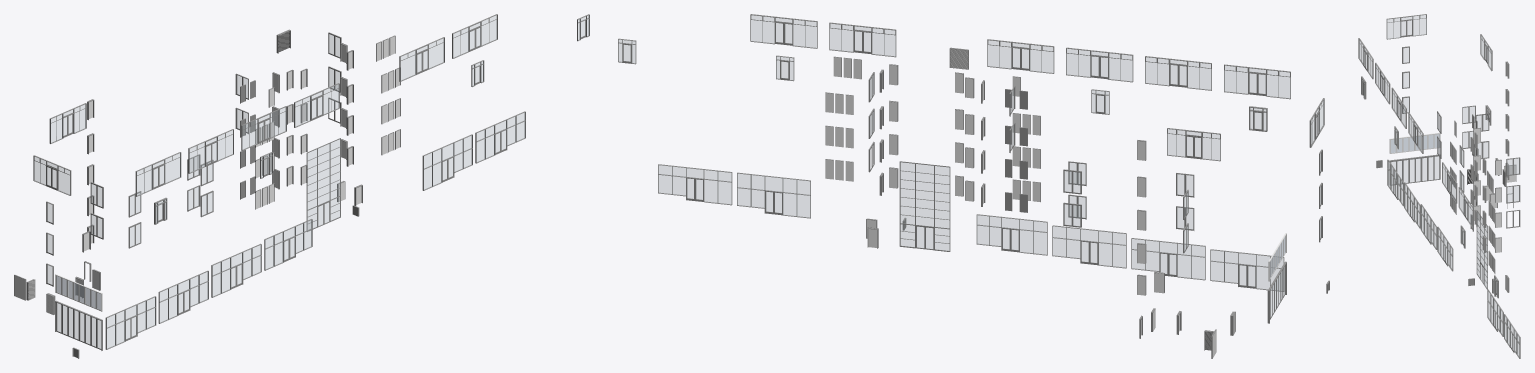
3 views of the same model, side by side, from view 1: azimuth 30°, elevation 25°; view 2: azimuth 150°, elevation 25°; view 3: azimuth 270°, elevation 25° (orthographic). The views are drawn at different scales.
Visible parts, largest first — view 1: 1087, 1107, 1099, 1091, 1095, 1103, 1111, 1086, 1136, 1135, 9759, 9786 (+16 smaller); view 2: 1087, 1107, 1099, 1111, 1103, 1095, 1091, 1086, 9741, 9768, 9777, 9759 (+10 smaller); view 3: 1136, 1135, 1087, 9795, 2813, 1086, 1098, 1106, 2812, 1090, 1102, 1094 (+24 smaller).
Part boxes in pixels (bbox=[...]): 1087: bbox=[308, 139, 339, 229]; 1107: bbox=[424, 136, 471, 189]; 1099: bbox=[213, 245, 260, 296]; 1091: bbox=[107, 297, 155, 348]; 1095: bbox=[160, 272, 207, 322]; 1103: bbox=[265, 220, 311, 269]; 1111: bbox=[477, 113, 524, 162]; 1086: bbox=[306, 138, 340, 231]; 1136: bbox=[57, 303, 100, 348]; 1135: bbox=[55, 300, 102, 350]; 9759: bbox=[242, 107, 285, 149]; 9786: bbox=[295, 85, 338, 126]; 1087: bbox=[901, 162, 949, 250]; 1107: bbox=[737, 174, 809, 217]; 1099: bbox=[1053, 226, 1125, 267]; 1111: bbox=[659, 165, 731, 204]; 1103: bbox=[977, 215, 1046, 254]; 1095: bbox=[1132, 239, 1204, 279]; 1091: bbox=[1211, 250, 1283, 290]; 1086: bbox=[899, 161, 950, 251]; 9741: bbox=[751, 15, 816, 47]; 9768: bbox=[1145, 57, 1210, 89]; 9777: bbox=[1224, 66, 1289, 98]; 9759: bbox=[1067, 49, 1132, 81]; 1136: bbox=[1391, 156, 1438, 183]; 1135: bbox=[1389, 154, 1440, 185]; 1087: bbox=[1477, 212, 1486, 287]; 9795: bbox=[1387, 15, 1426, 38]; 2813: bbox=[1391, 134, 1439, 152]; 1086: bbox=[1476, 210, 1487, 289]; 1098: bbox=[1420, 204, 1437, 249]; 1106: bbox=[1487, 289, 1503, 336]; 2812: bbox=[1389, 132, 1440, 153]; 1090: bbox=[1387, 159, 1403, 206]; 1102: bbox=[1437, 226, 1453, 271]; 1094: bbox=[1404, 182, 1420, 228].
Bounding box in the file's own units: 71.43 × 24.36 × 20.7.
